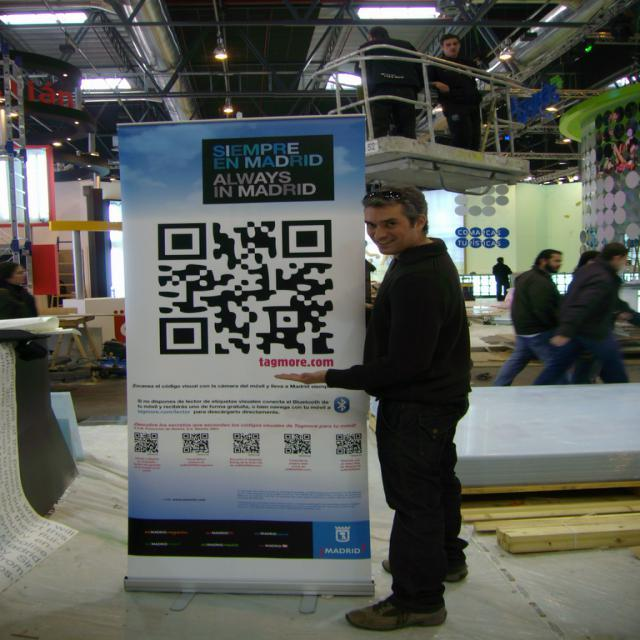qrcode: (159, 221, 335, 356), (337, 434, 362, 455), (234, 434, 260, 454), (184, 434, 210, 454), (285, 435, 311, 455), (135, 434, 159, 454)
